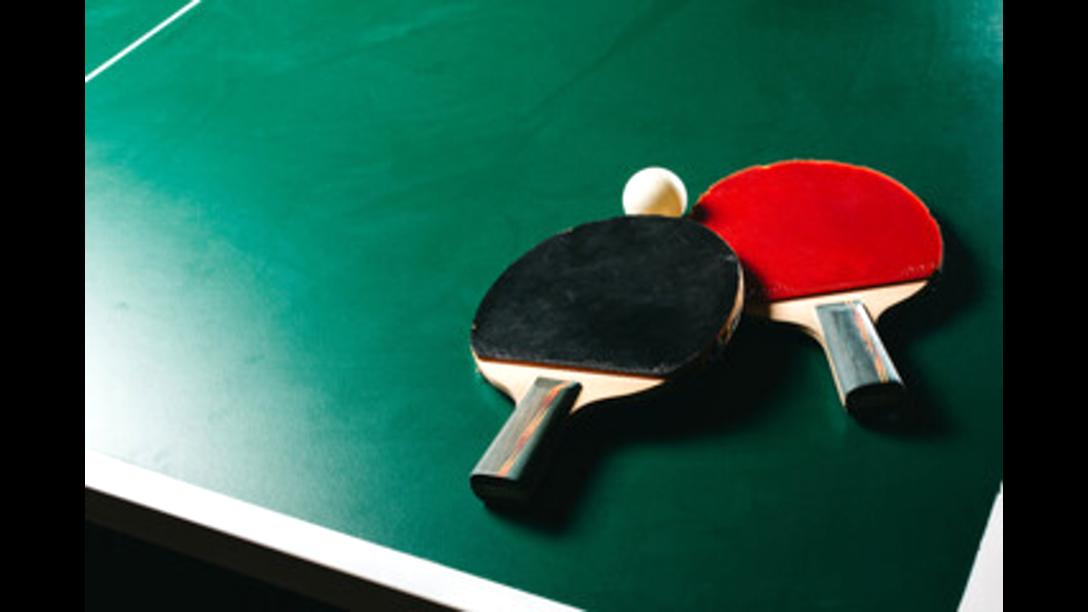Table-Tennis-Ball: (622, 167, 686, 217)
